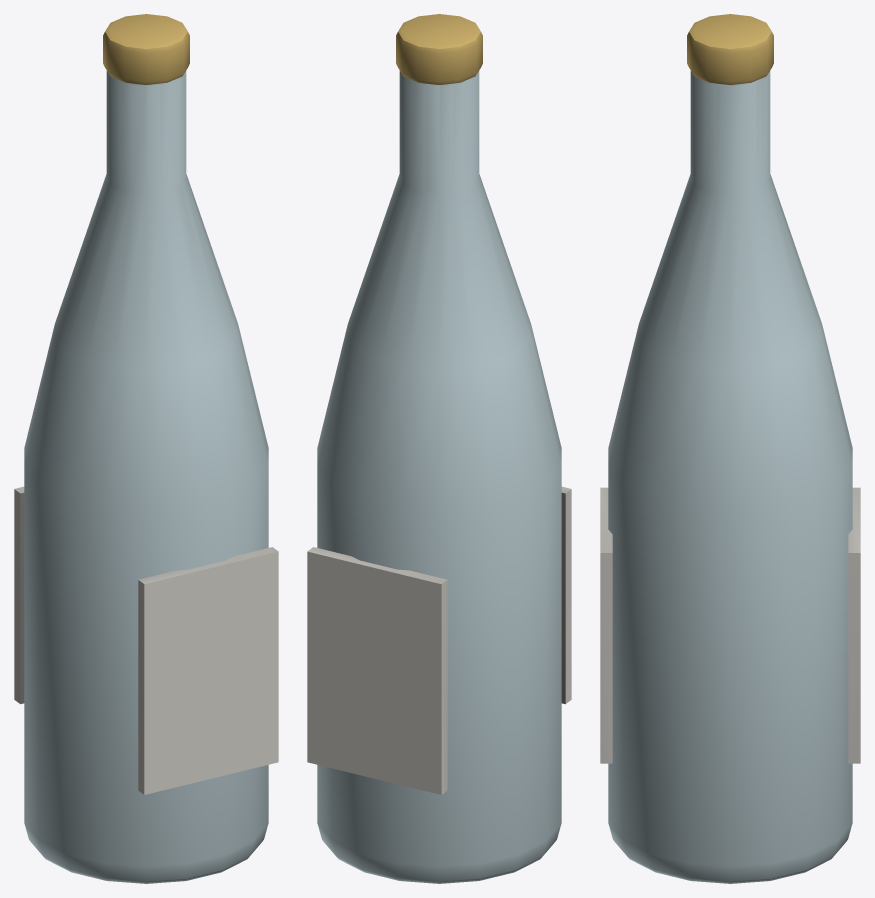
Rendered from wine_bottle.glb.
3 renders of one model, left to right at view 1: azimuth 30°, elevation 25°; view 2: azimuth 150°, elevation 25°; view 3: azimuth 270°, elevation 25°, orthographic.
Parts seen in each view (by area): view 1: wine_bottle; view 2: wine_bottle; view 3: wine_bottle.
Boxes of the visible parts, x1=… form: wine_bottle: x1=14, y1=14, x2=278, y2=883; wine_bottle: x1=307, y1=14, x2=571, y2=883; wine_bottle: x1=600, y1=14, x2=860, y2=883.
Bounding box in the file's own units: 0.08 × 0.287 × 0.084.
